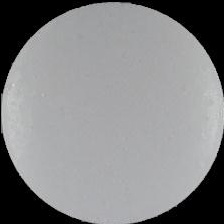60429-380: (0, 0, 224, 224)
